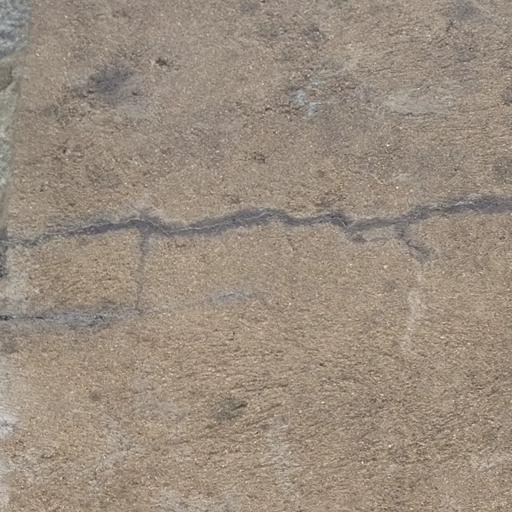minor_crack: (0, 184, 512, 351)
